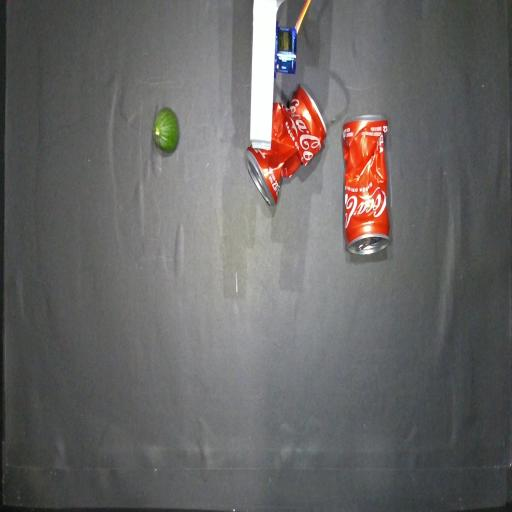higo: (153, 108, 179, 153)
lata_defectuoso: (246, 86, 326, 205), (343, 115, 389, 253)
